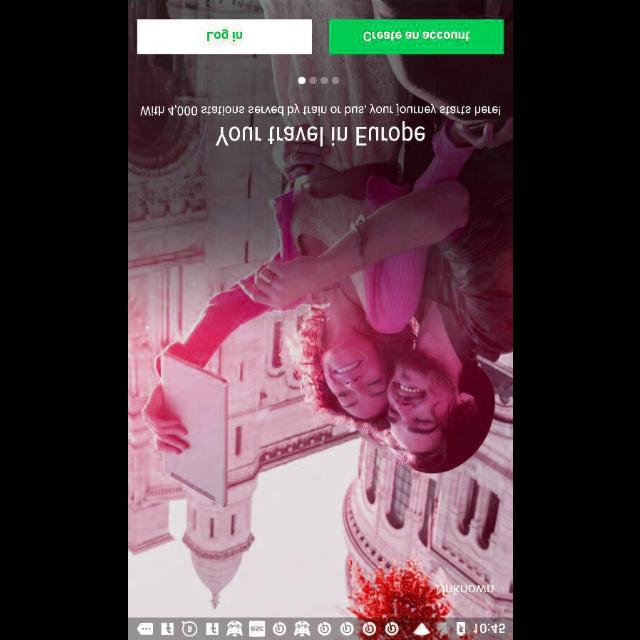backgroundimage: (128, 0, 512, 616)
pageindicator: (296, 76, 340, 84)
text: (216, 120, 424, 146), (140, 104, 500, 116)
textbutton: (328, 19, 504, 55), (136, 18, 312, 54)
uppertaskbar: (128, 617, 512, 639)
